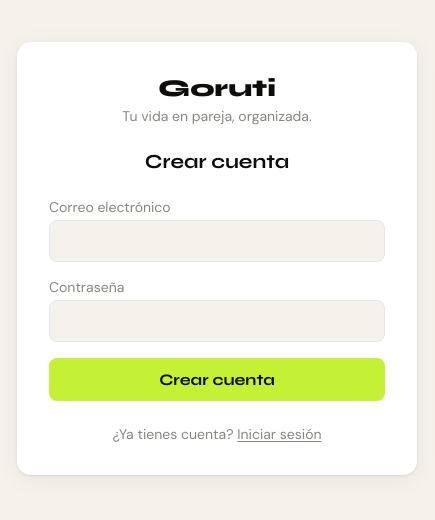
Scenario: RegisterPage › shows the (already-localized) error returned by useAuth
The width and height of the screenshot is (435, 520).
Type "existing@b.com" into the field labelled "Correo electrónico" at point(217, 240), box top-left (49, 220), bottom-right (385, 262)
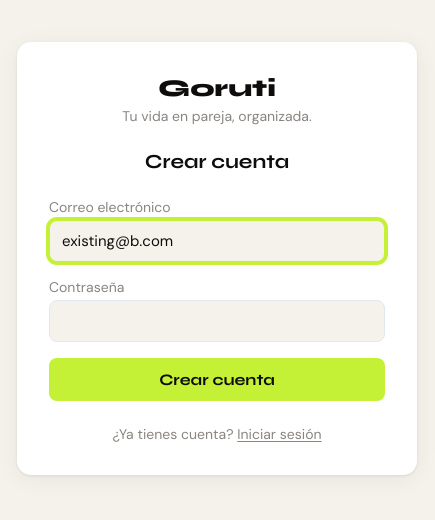
Type "password123" into the password field labelled "Contraseña" at point(217, 320), box top-left (49, 300), bottom-right (385, 342)
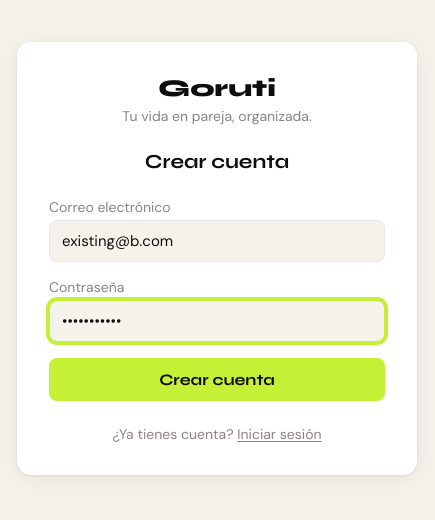
Click the button "Crear cuenta" at point(217, 379), box top-left (49, 358), bottom-right (385, 400)
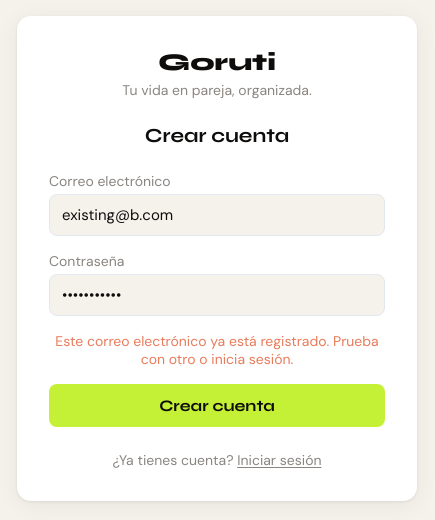
Expected: the text "ya está registrado" is shown, top-left (55, 332), bottom-right (379, 368)
